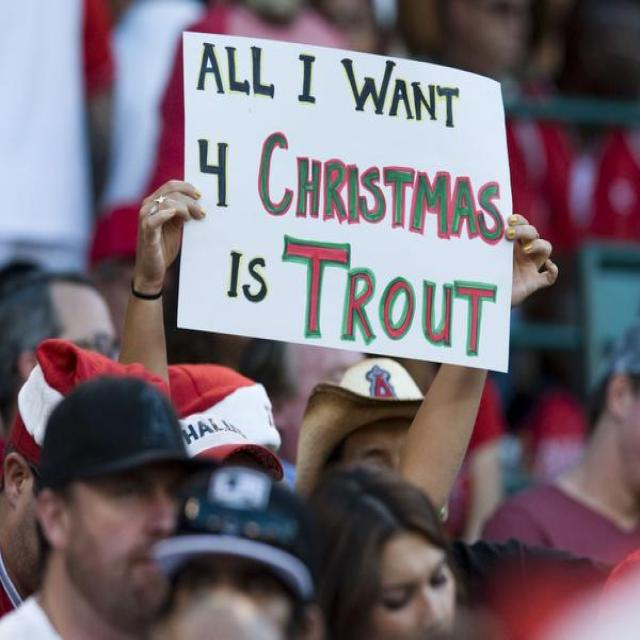cap: (37, 379, 210, 625)
head: (294, 463, 460, 640)
